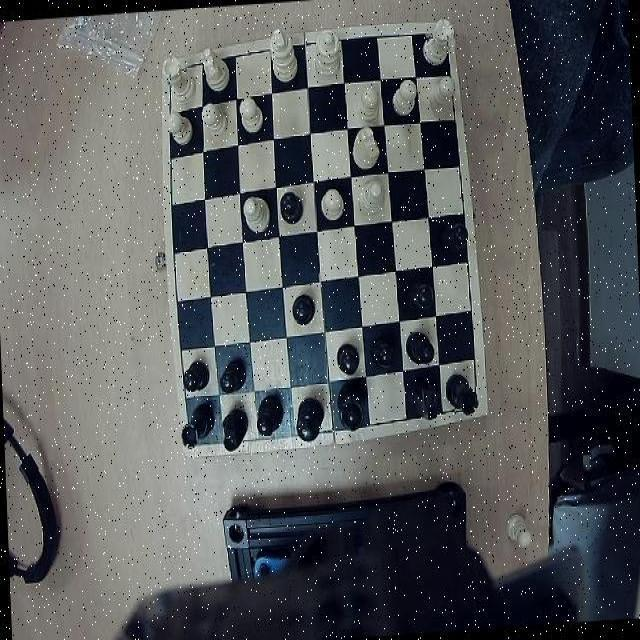chess-table-corners: (454, 386, 486, 418), (426, 24, 456, 56), (183, 424, 214, 452), (162, 60, 188, 88)
